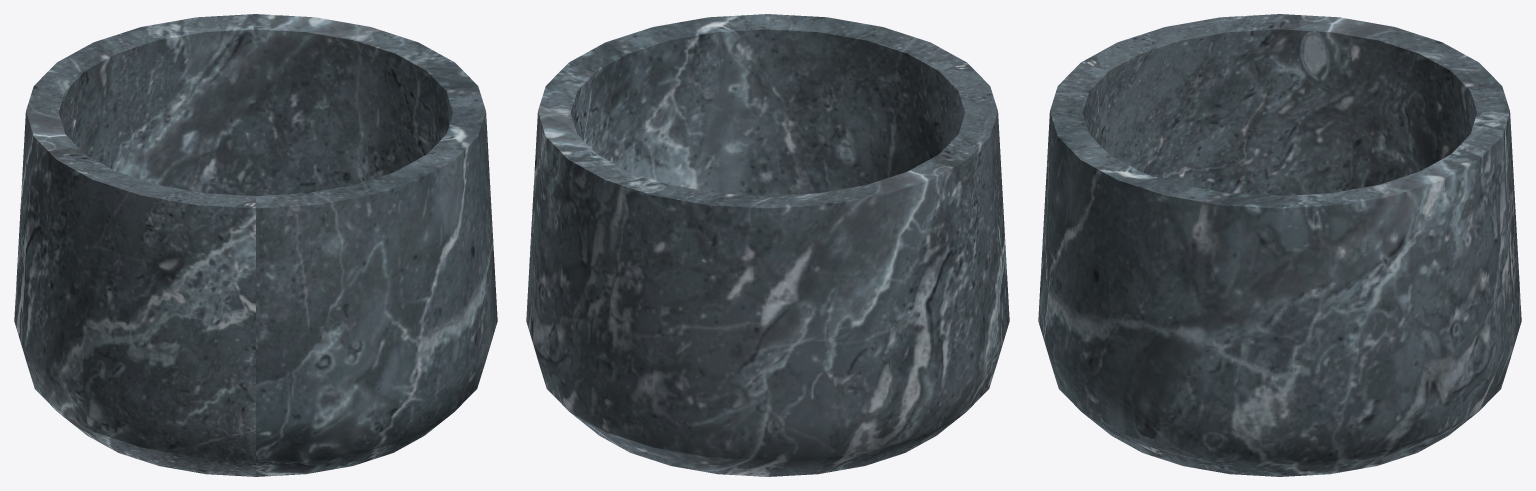
Rendered from mortal.fbx.
3 renders of one model, left to right at view 1: azimuth 30°, elevation 25°; view 2: azimuth 150°, elevation 25°; view 3: azimuth 270°, elevation 25°, orthographic.
Visible parts, largest first — view 1: mortal; view 2: mortal; view 3: mortal.
Boxes of the visible parts, left/top/right/bottom form: mortal: left=14, top=14, right=497, bottom=476; mortal: left=526, top=14, right=1009, bottom=476; mortal: left=1038, top=14, right=1521, bottom=476.
Size of the model in its own units: 369 by 248 by 369.
